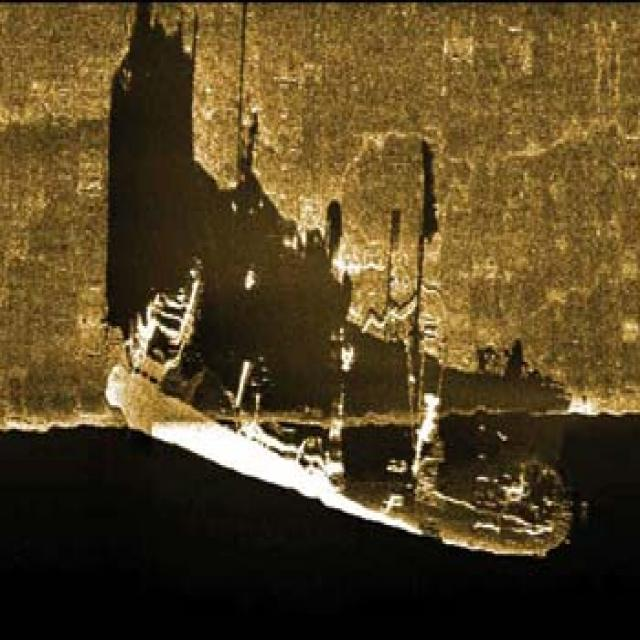ship: (99, 252, 576, 558)
